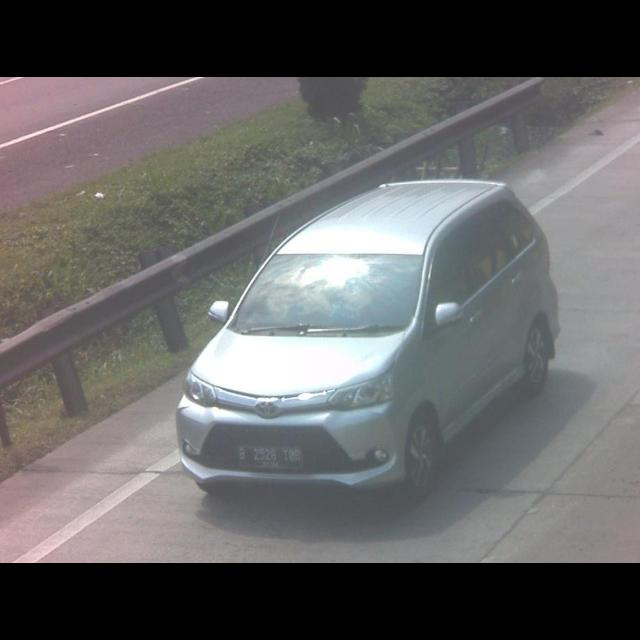plate: (237, 444, 303, 471)
